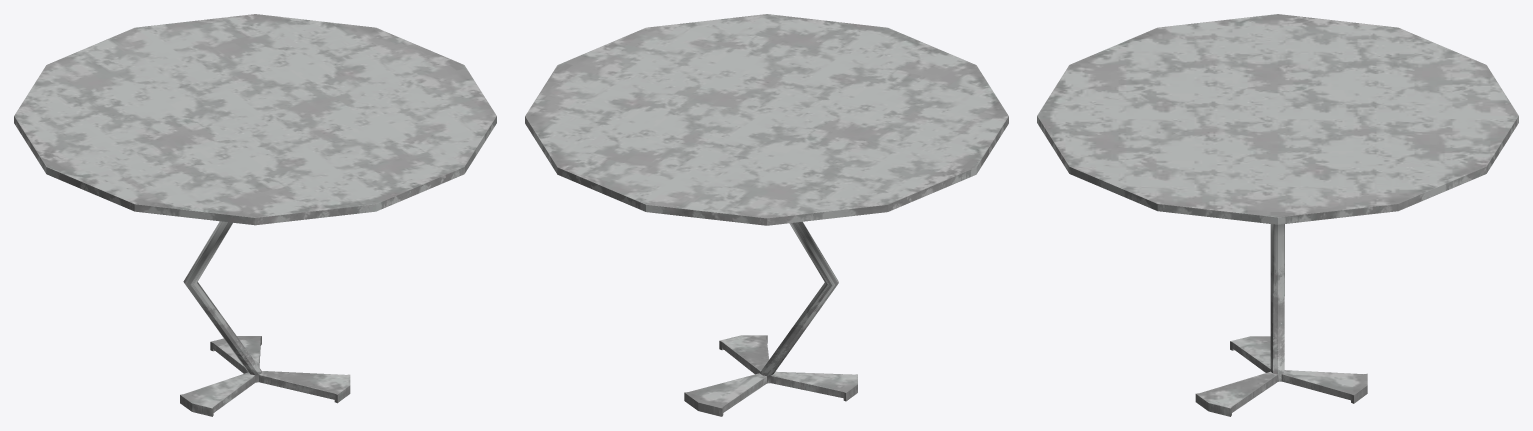
File: bw-table-round.lod0.glb
The picture shows the model from 3 angles, left to right: view 1: azimuth 30°, elevation 25°; view 2: azimuth 150°, elevation 25°; view 3: azimuth 270°, elevation 25°; orthographic projection.
Visible parts, largest first — view 1: pCylinder6_lambert1_0; view 2: pCylinder6_lambert1_0; view 3: pCylinder6_lambert1_0.
Boxes of the visible parts, x1,y1,x2,y2 form: pCylinder6_lambert1_0: [14, 14, 496, 416]; pCylinder6_lambert1_0: [525, 14, 1008, 416]; pCylinder6_lambert1_0: [1037, 14, 1518, 416].
Size of the model in its own units: 1.6 by 0.9767 by 1.6.
1 material, 1 textured.
